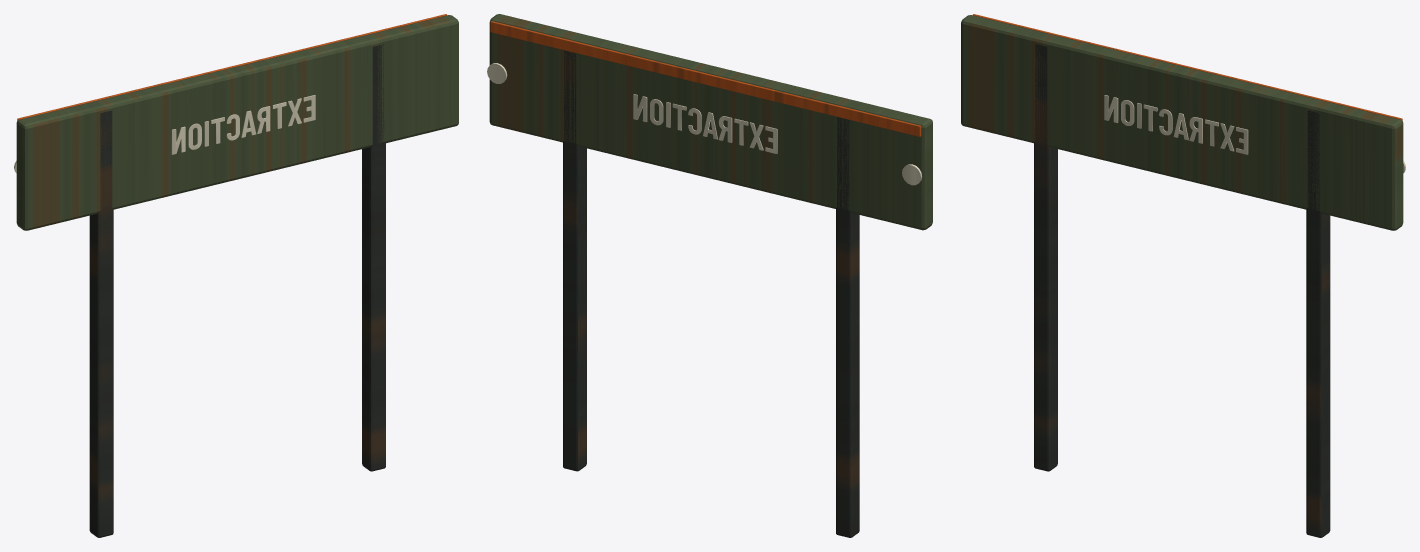
The model's file is salvage-sign-lod.obj.
3 views of the same model, side by side, from view 1: azimuth 30°, elevation 25°; view 2: azimuth 150°, elevation 25°; view 3: azimuth 330°, elevation 25° (orthographic).
Visible parts, largest first — view 1: salvage-sign.001; view 2: salvage-sign.001; view 3: salvage-sign.001.
Boxes of the visible parts, x1,y1,x2,y2 form: salvage-sign.001: (14,14,458,537); salvage-sign.001: (487,14,932,537); salvage-sign.001: (961,14,1405,537).
Bounding box in the file's own units: 3.2 × 3.03 × 0.1706.
